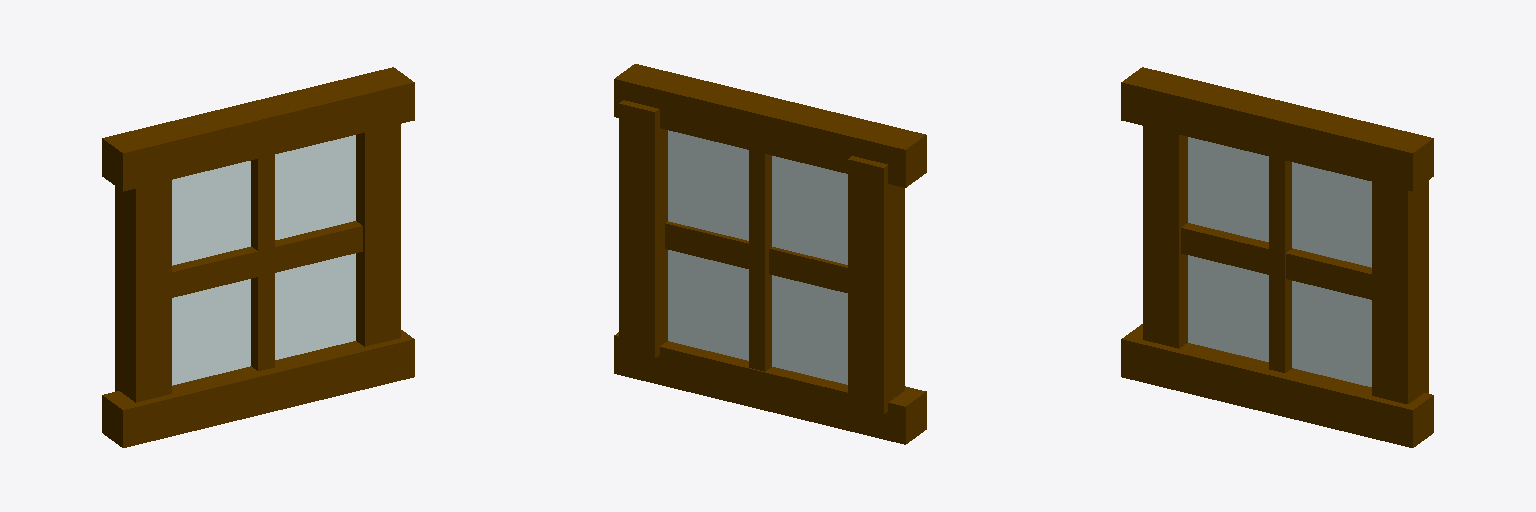
Rendered from Window.obj.
3 renders of one model, left to right at view 1: azimuth 30°, elevation 25°; view 2: azimuth 150°, elevation 25°; view 3: azimuth 330°, elevation 25°, orthographic.
Visible parts, largest first — view 1: Window; view 2: Window; view 3: Window.
Boxes of the visible parts, <box> form: Window: <box>102,67,414,447</box>; Window: <box>614,64,926,444</box>; Window: <box>1121,67,1433,447</box>.
Bounding box in the file's own units: 2.06 × 1.99 × 0.3129.